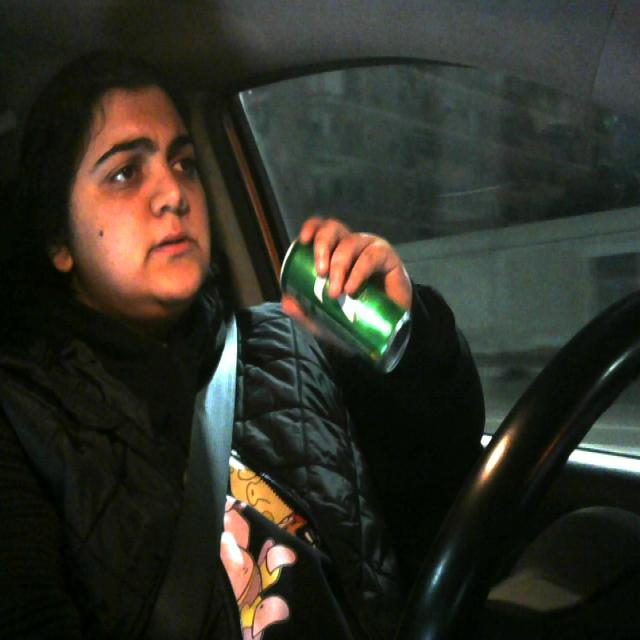drinking: (277, 231, 414, 382)
